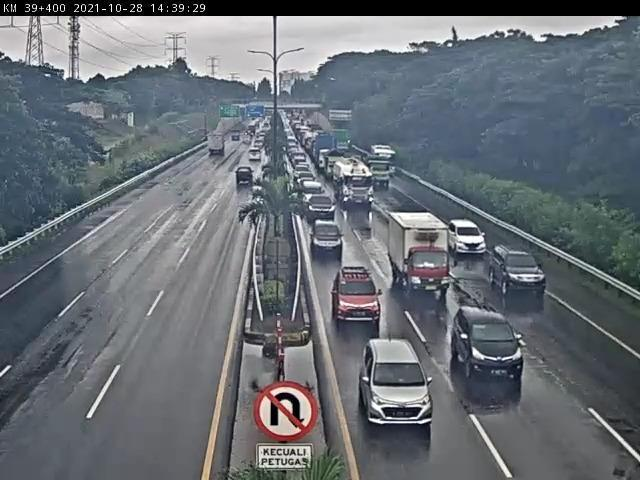car: (354, 329, 437, 434), (448, 303, 531, 387), (490, 245, 549, 302), (330, 267, 382, 325), (447, 218, 487, 256), (310, 220, 344, 260), (307, 195, 336, 221), (235, 166, 255, 186)
truck: (386, 210, 453, 301), (333, 159, 375, 208), (367, 151, 396, 191)
